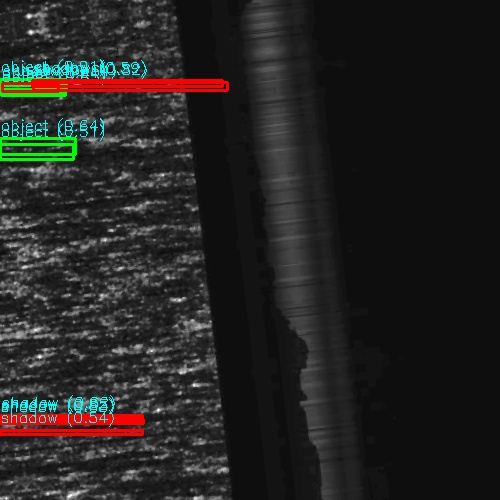rock: (0, 329, 43, 346), (2, 81, 65, 90)
shadow: (34, 81, 219, 90), (0, 329, 78, 346), (0, 416, 150, 421), (0, 418, 139, 423)
